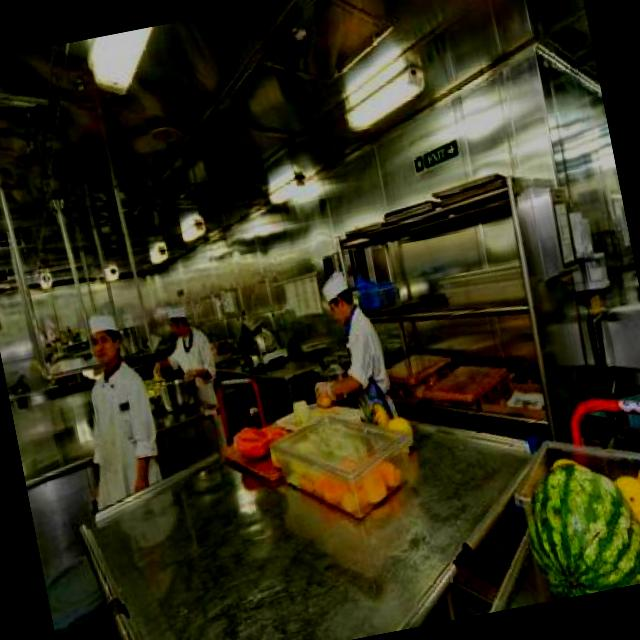Person: (55, 305, 169, 510), (290, 266, 394, 427), (139, 296, 226, 424)
